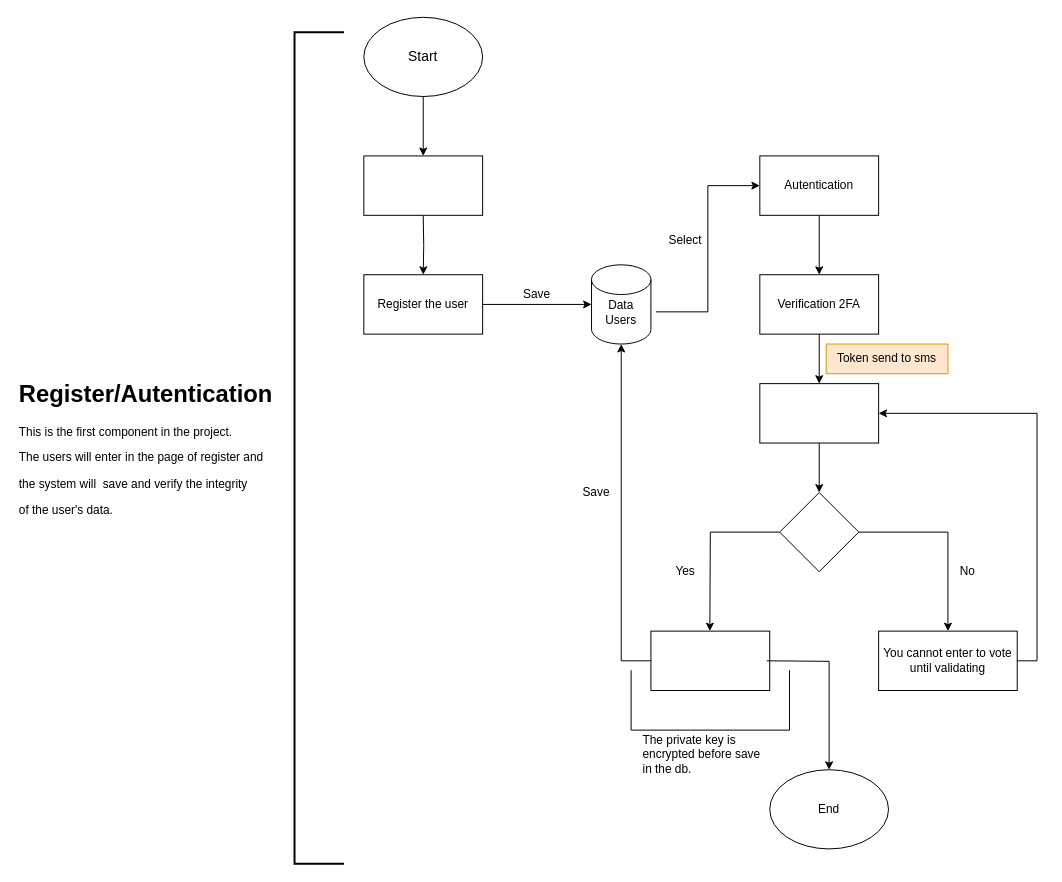
Some shapes in this 1062 by 882 pixel diagram are drawn without their labels. Here are the shapes that lost their labels. From the top down, the box of each, then its label:
(363, 155, 483, 215): Access to web/app
(759, 383, 879, 443): Validation 2FA
(779, 492, 859, 572): if validate
(650, 630, 770, 691): Generate keys (publics and privates)
